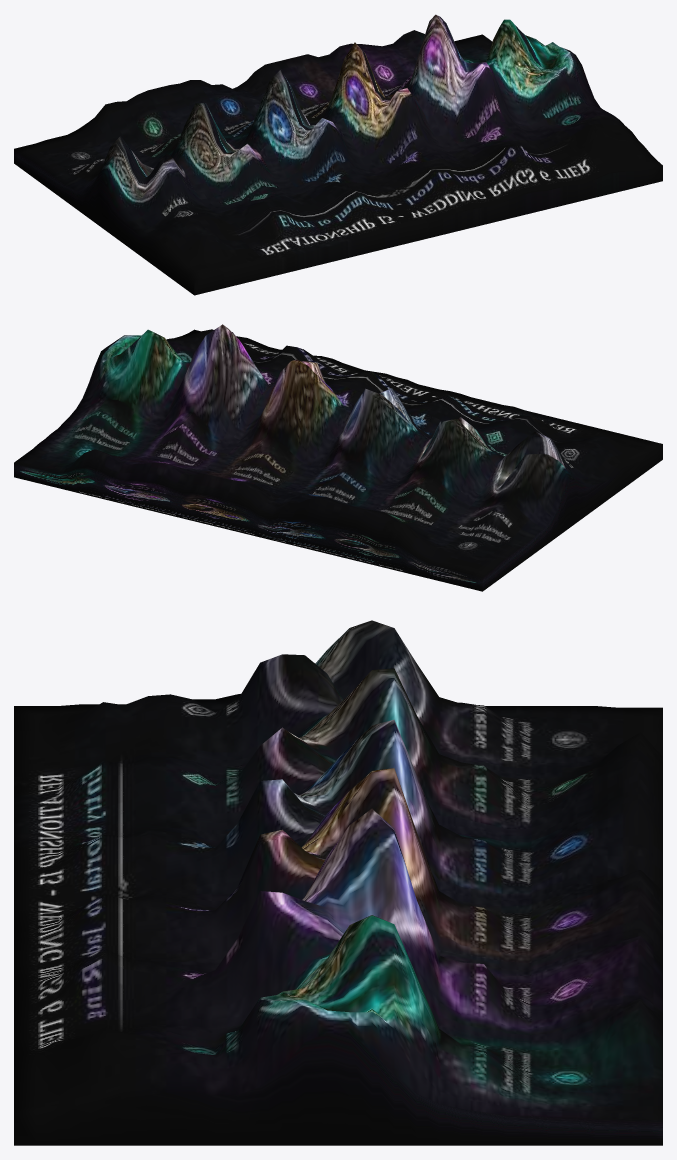
File: RELATIONSHIP_13_Wedding_Rings_6Tier.glb
The picture shows the model from 3 angles, top to bottom: view 1: azimuth 30°, elevation 25°; view 2: azimuth 150°, elevation 25°; view 3: azimuth 270°, elevation 25°; orthographic projection. The views are drawn at different scales.
Visible parts, largest first — view 1: RELATIONSHIP_13_Wedding_Rings_6Tier; view 2: RELATIONSHIP_13_Wedding_Rings_6Tier; view 3: RELATIONSHIP_13_Wedding_Rings_6Tier.
Part boxes in pixels (x1,y1,x2,y2): RELATIONSHIP_13_Wedding_Rings_6Tier: (14, 14, 662, 295); RELATIONSHIP_13_Wedding_Rings_6Tier: (14, 324, 662, 591); RELATIONSHIP_13_Wedding_Rings_6Tier: (14, 620, 662, 1145).
Bounding box in the file's own units: 2 × 0.51 × 1.33.
1 material, 1 textured.
